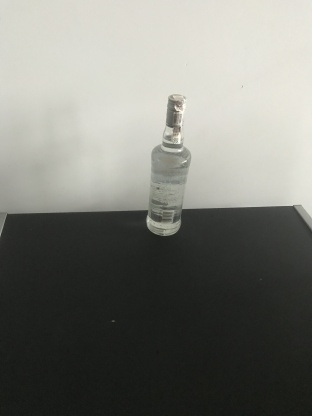nakretka: (164, 91, 186, 128)
